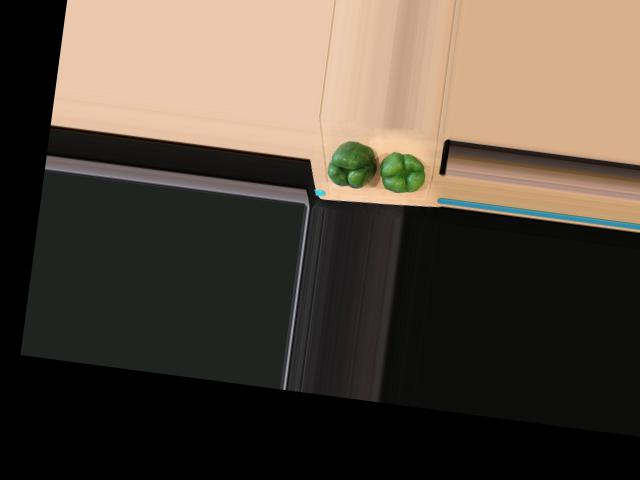bell_pepper: (375, 144, 427, 196)
